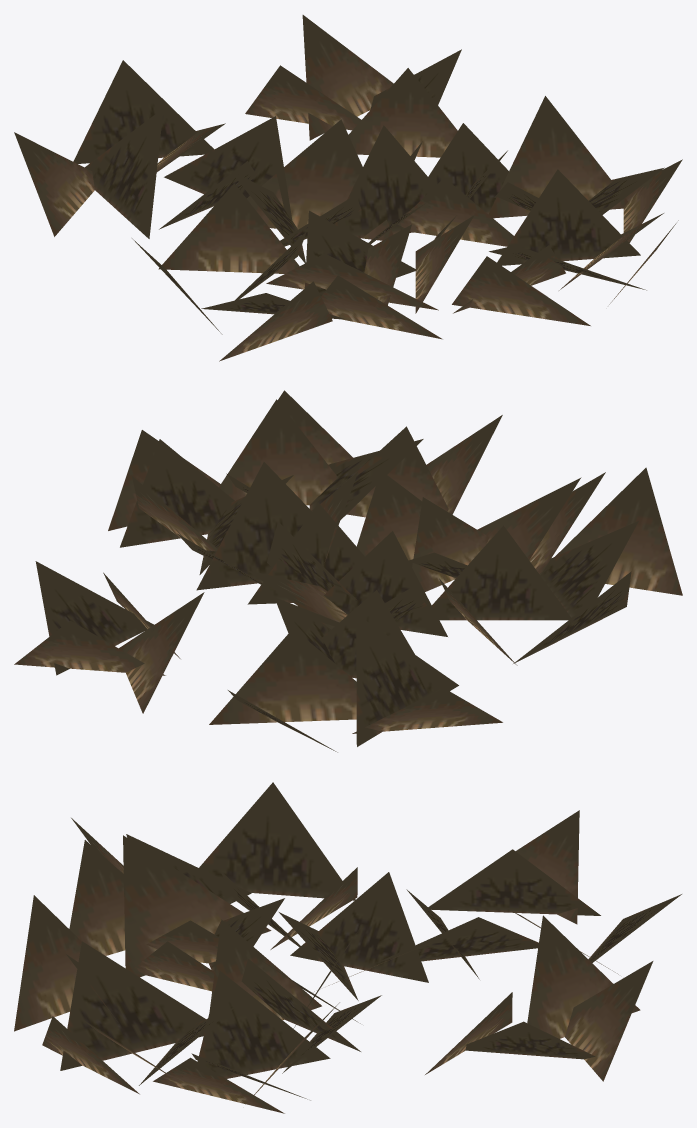
File: dec_dry_grass_011_52107.glb
3 views of the same model, one above another, from view 1: azimuth 30°, elevation 25°; view 2: azimuth 150°, elevation 25°; view 3: azimuth 270°, elevation 25° (orthographic). The views are drawn at different scales.
Parts seen in each view (by area): view 1: dry_grass_011_mesh; view 2: dry_grass_011_mesh; view 3: dry_grass_011_mesh.
Part boxes in pixels (x1,y1,x2,y2): dry_grass_011_mesh: (14,15,682,361); dry_grass_011_mesh: (14,390,682,752); dry_grass_011_mesh: (14,782,681,1113).
Size of the model in its own units: 1.82 by 0.2928 by 2.
Materials: 1 (1 with a texture image).
